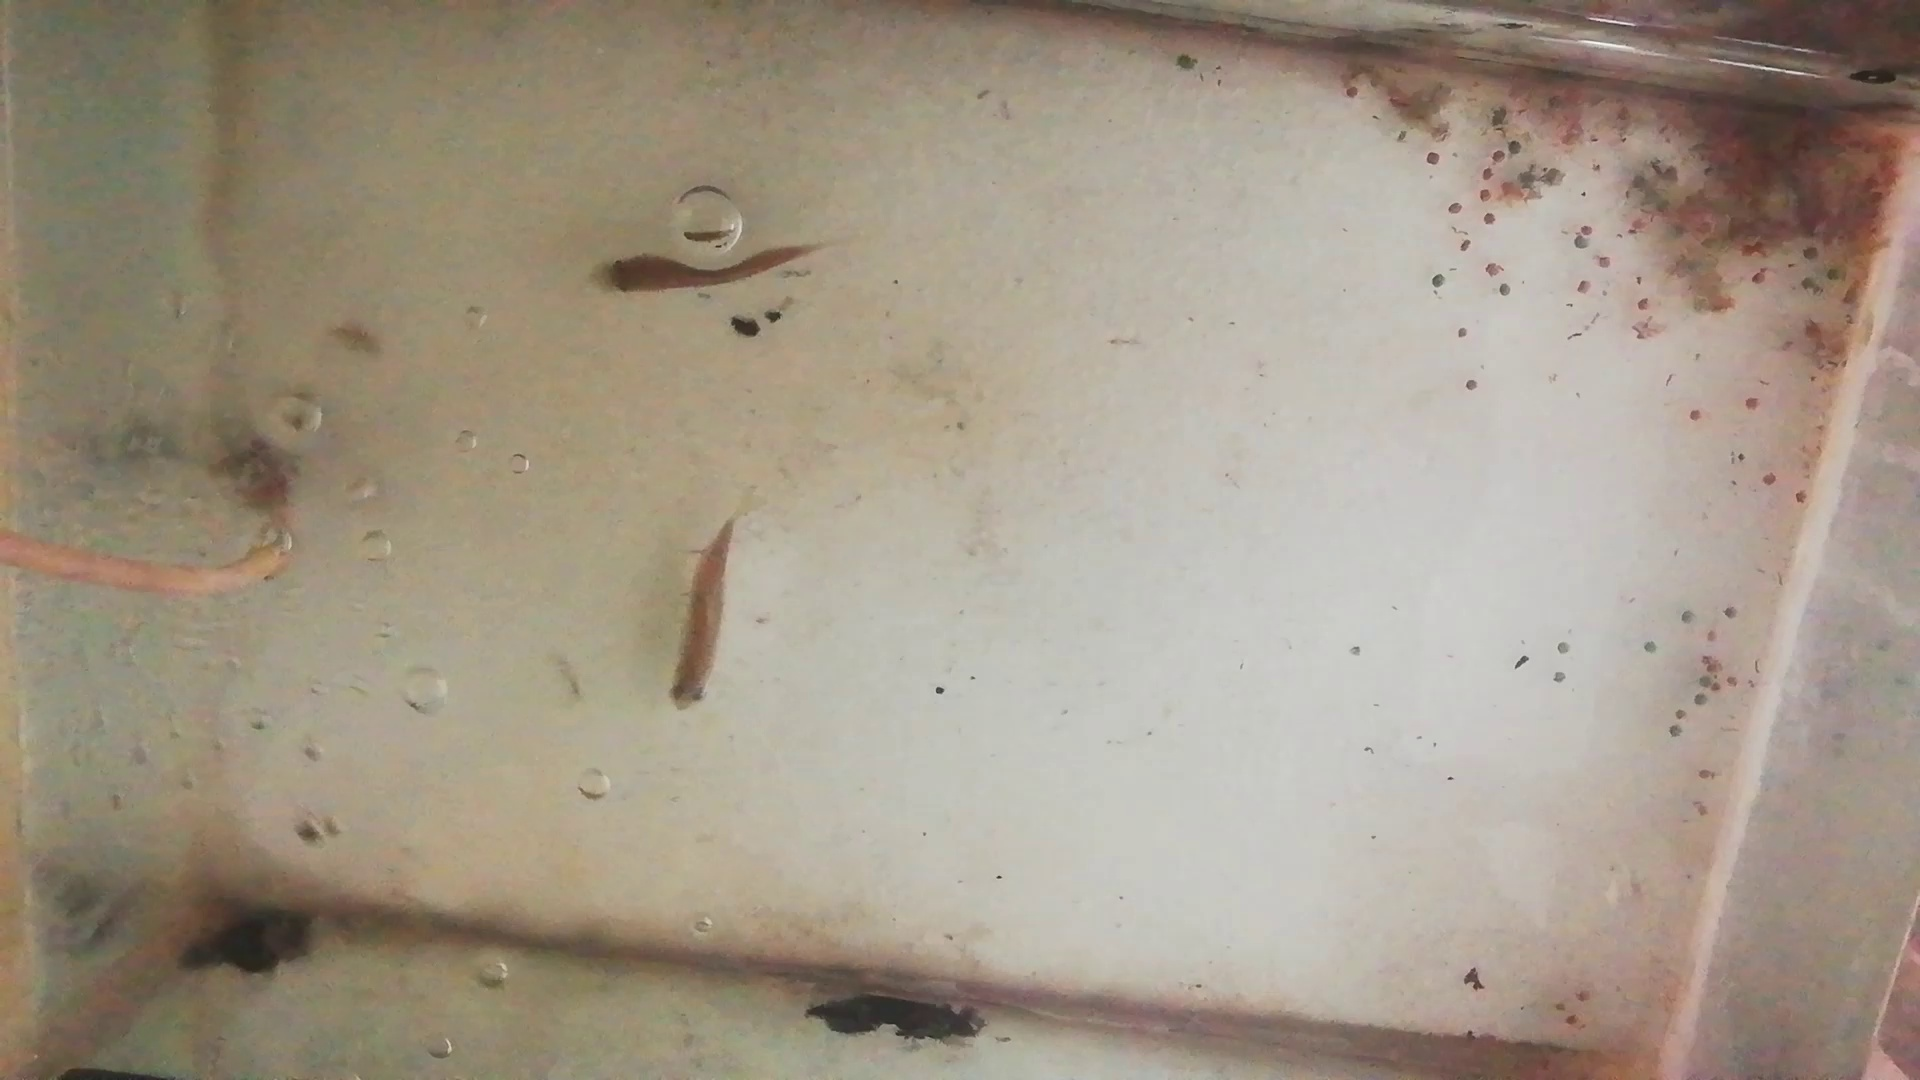fish: (669, 522, 736, 711), (607, 247, 814, 295)
